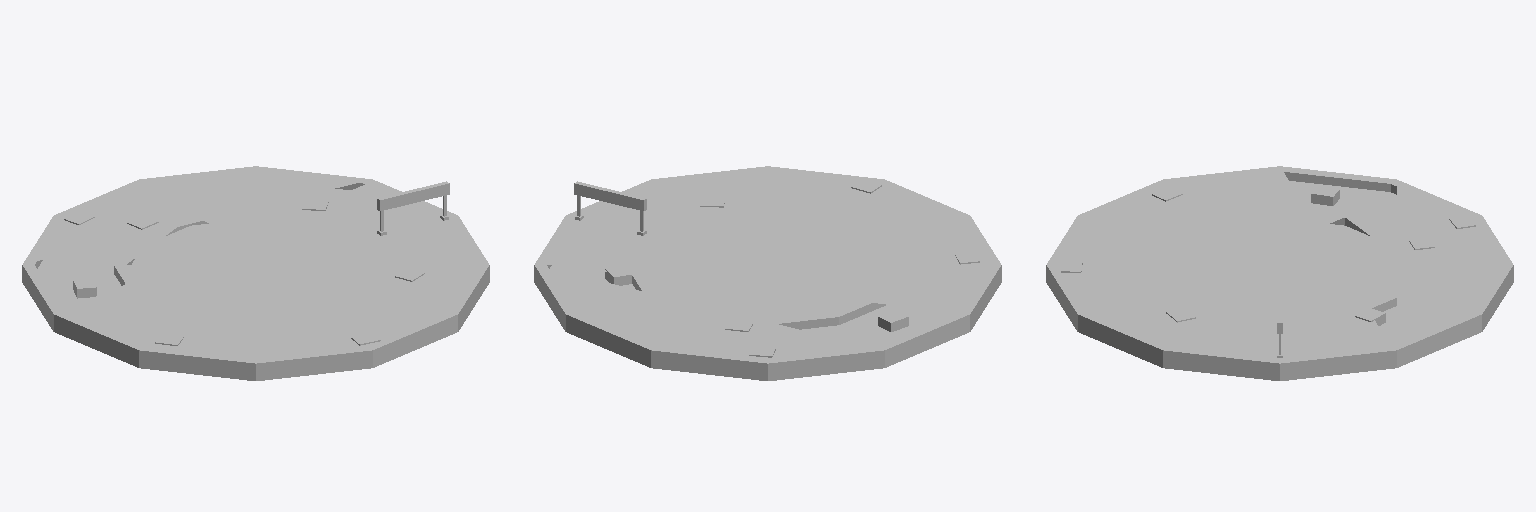
File: TrackFlat.obj
The picture shows the model from 3 angles: view 1: azimuth 30°, elevation 25°; view 2: azimuth 150°, elevation 25°; view 3: azimuth 270°, elevation 25°; orthographic projection.
Parts seen in each view (by area): view 1: track.001, Cube.002_Cube.003; view 2: track.001, Cube.002_Cube.003; view 3: track.001.
Part boxes in pixels (x1,y1,x2,y2): track.001: (22,166,489,380); Cube.002_Cube.003: (377,181,449,210); track.001: (534,166,1001,380); Cube.002_Cube.003: (574,181,646,210); track.001: (1046,166,1513,380).
Size of the model in its own units: 3.02 by 0.3812 by 3.02.